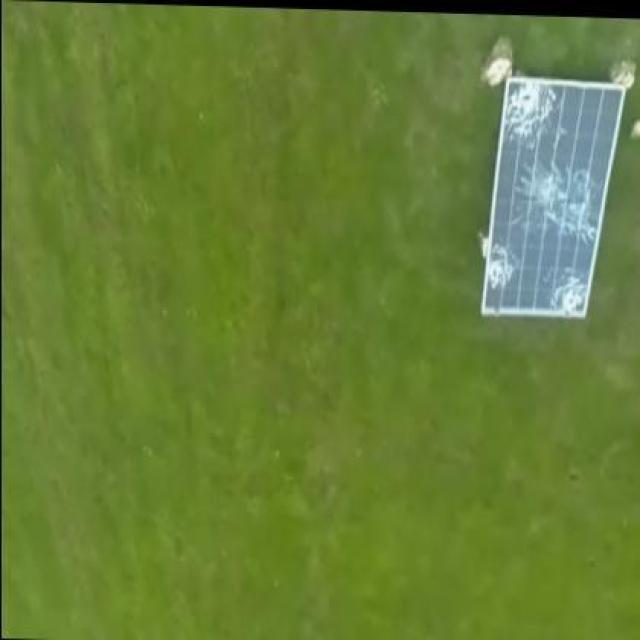cracked: (479, 65, 626, 324)
